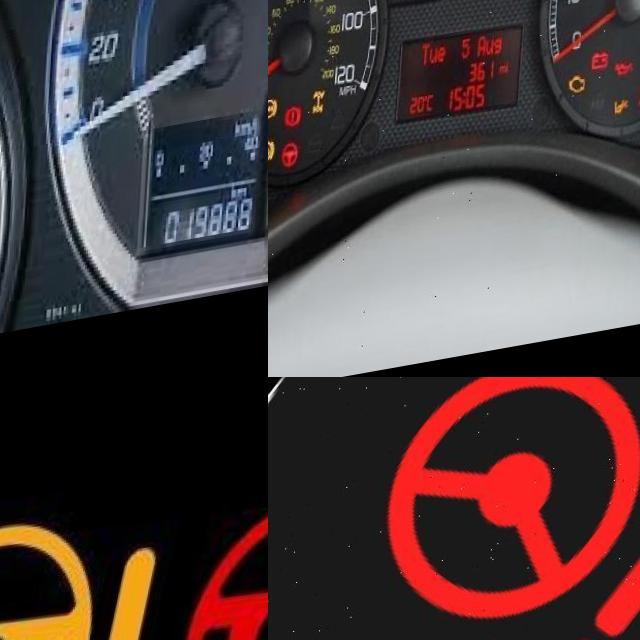Electronic Power Steering: (0, 505, 163, 640)
Electronic Power Steering Warning: (285, 146, 303, 175)
